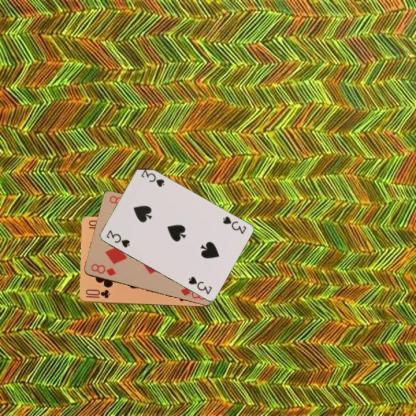10c: (83, 287, 111, 299)
3s: (220, 213, 247, 235), (104, 228, 131, 249)
8d: (89, 261, 118, 277)
